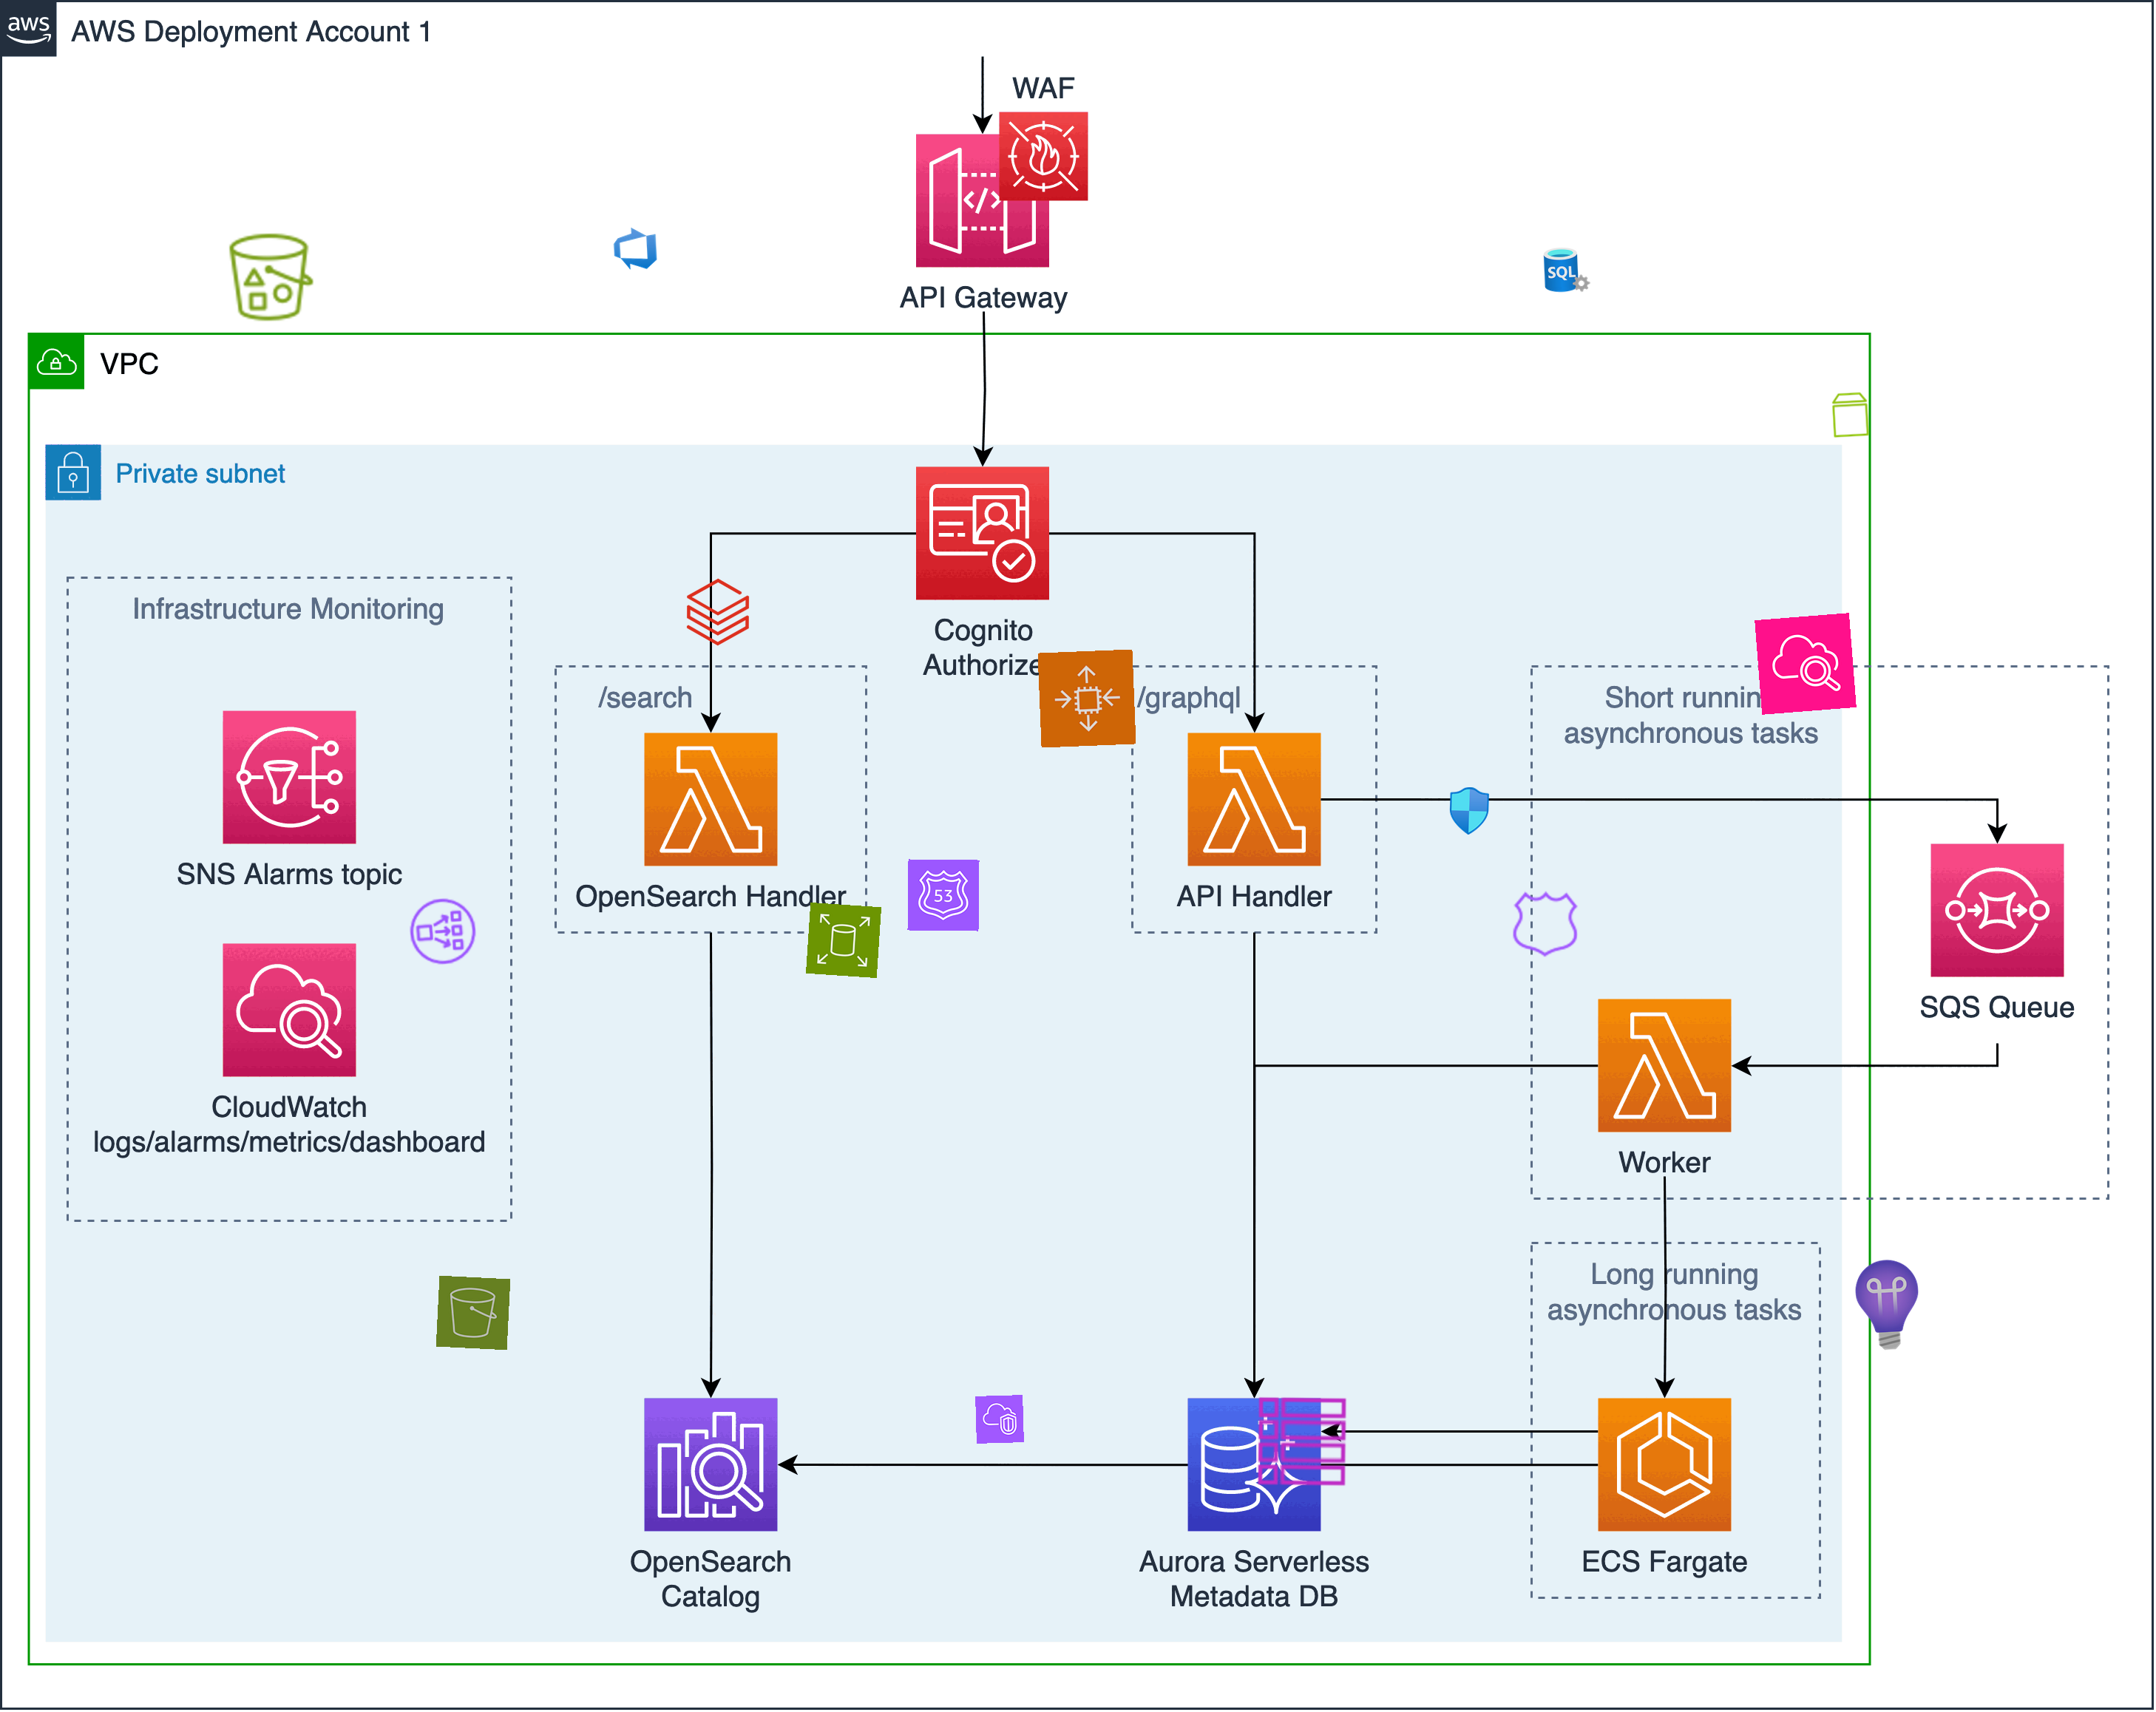aws_amazon_cloudwatch: (1755, 612, 1857, 715)
aws_amazon_ec2_auto_scaling: (1038, 649, 1136, 748)
aws_amazon_elastic_block_store: (805, 902, 882, 979)
aws_amazon_route_53: (907, 859, 980, 932)
aws_amazon_simple_storage_service: (436, 1275, 511, 1350)
aws_amazon_virtual_private_cloud: (975, 1395, 1024, 1444)
aws_dynamodb_table: (1255, 1394, 1349, 1490)
aws_elastic_block_store_volume: (1825, 390, 1876, 441)
aws_elastic_load_balancing_network_load_balancer: (404, 894, 481, 971)
aws_route_53_hosted_zone: (1510, 888, 1582, 960)
aws_simple_storage_service_bucket_with_objects: (224, 229, 320, 325)
azure_application_insights: (1838, 1254, 1937, 1355)
azure_databricks: (682, 575, 754, 649)
azure_devops: (611, 224, 660, 273)
azure_network_security_groups: (1444, 785, 1495, 836)
azure_sql_server: (1542, 245, 1592, 296)
